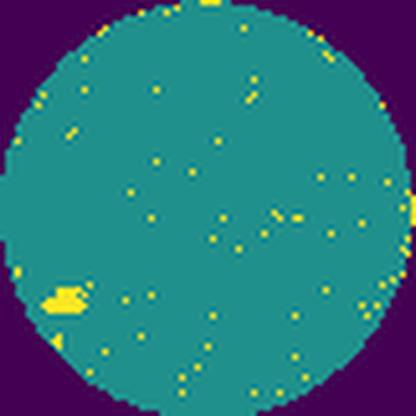Loc: (43, 280, 89, 315)
